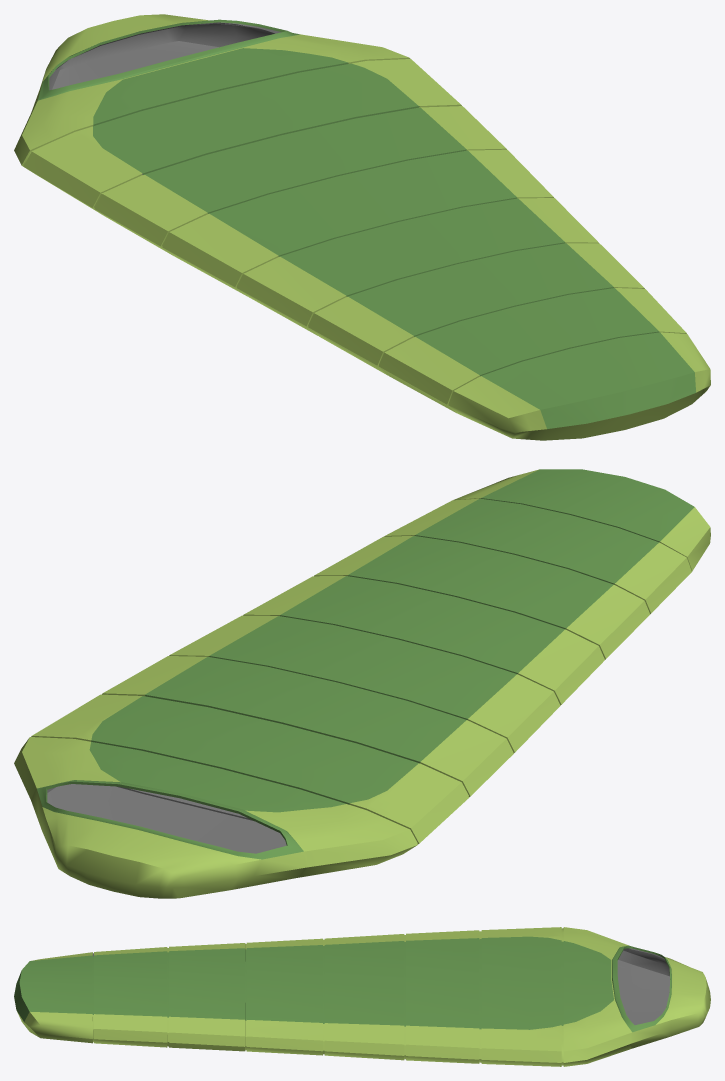
File: sleeping_bag.glb
3 views of the same model, one above another, from view 1: azimuth 30°, elevation 25°; view 2: azimuth 150°, elevation 25°; view 3: azimuth 270°, elevation 25° (orthographic). The views are drawn at different scales.
Visible parts, largest first — view 1: Object_2, Object_3, Object_4; view 2: Object_2, Object_3, Object_4; view 3: Object_2, Object_3, Object_4.
Boxes of the visible parts, box(x1,y1,x2,y2) form: Object_2: box(38, 19, 696, 428); Object_3: box(14, 14, 710, 440); Object_4: box(49, 22, 280, 174); Object_2: box(37, 469, 694, 859); Object_3: box(14, 469, 710, 898); Object_4: box(47, 784, 286, 853); Object_2: box(14, 936, 671, 1032); Object_3: box(17, 927, 710, 1066); Object_4: box(93, 948, 669, 1024).
Bounding box in the file's own units: 88.16 × 10.07 × 200.
